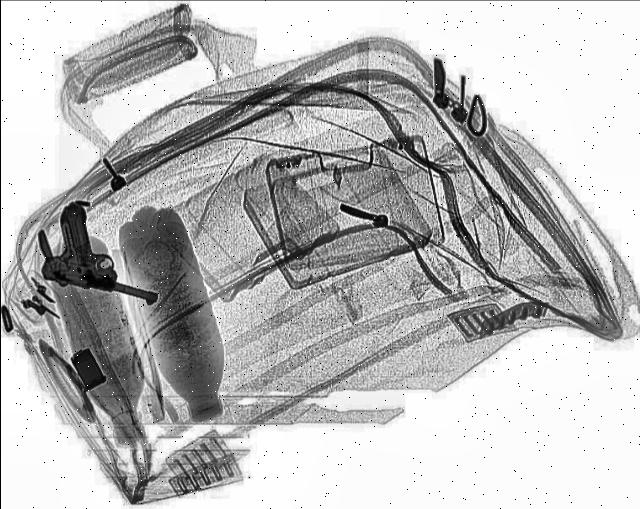Gun: (34, 196, 190, 308)
